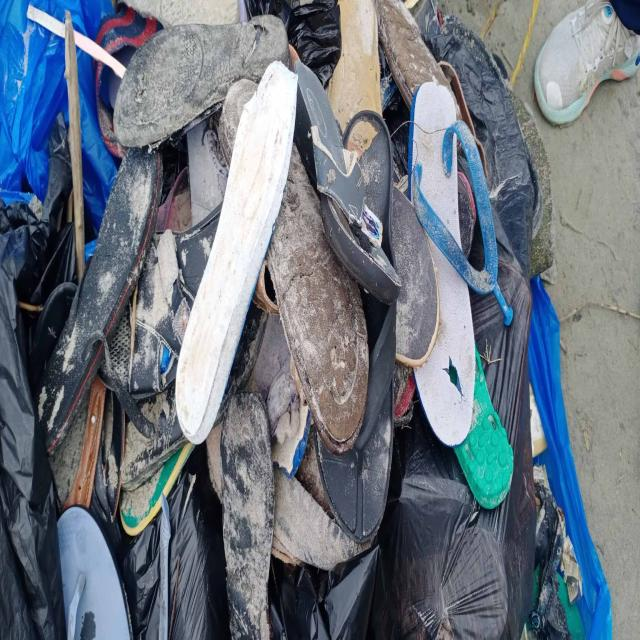dep: (175, 60, 297, 443), (409, 80, 514, 445), (37, 146, 161, 454), (267, 146, 369, 453), (294, 61, 401, 304), (113, 13, 289, 145), (316, 288, 396, 542), (220, 390, 274, 639), (536, 0, 640, 122), (57, 505, 131, 640), (375, 0, 451, 107), (218, 76, 255, 162), (358, 109, 390, 157)
tui_ni_long: (373, 242, 537, 639), (0, 0, 68, 202), (76, 47, 116, 240), (30, 0, 113, 37)
